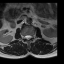CCS_normal: (27, 32, 29, 42)
LFS_normal: (31, 33, 33, 39)
LLS_normal: (29, 33, 31, 41)
RFS_normal: (22, 33, 24, 41)
RLS_normal: (24, 33, 27, 40)
